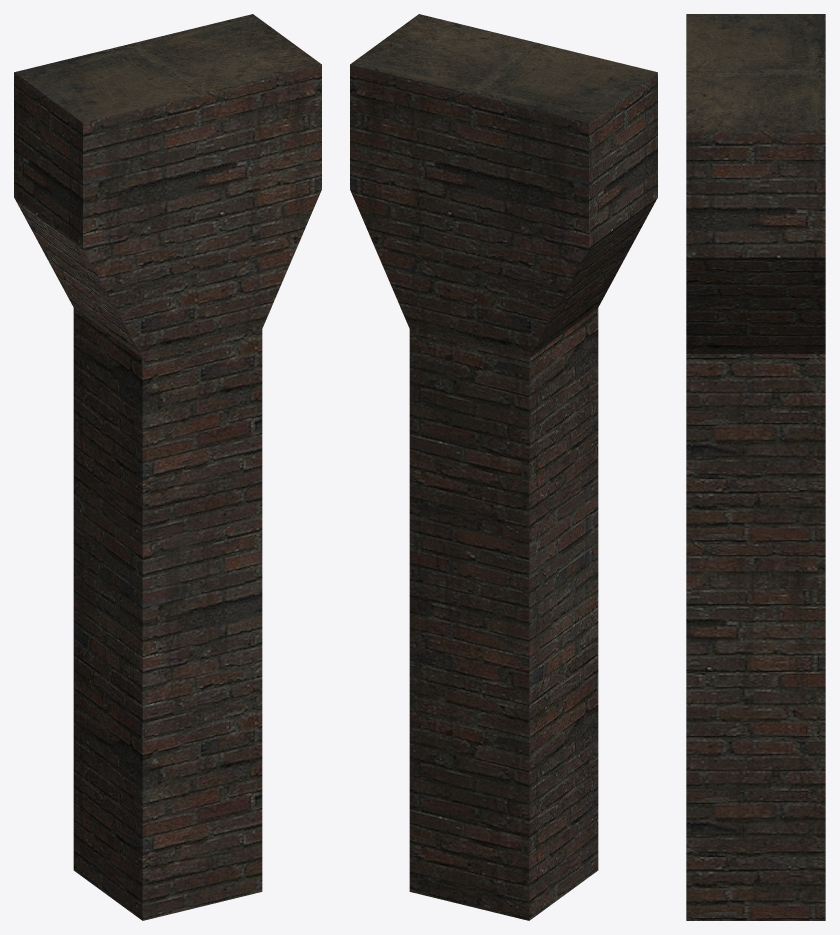
File: pillar_hs_7.obj
The picture shows the model from 3 angles, left to right: view 1: azimuth 30°, elevation 25°; view 2: azimuth 150°, elevation 25°; view 3: azimuth 270°, elevation 25°; orthographic projection.
Visible parts, largest first — view 1: pillar_hs_7; view 2: pillar_hs_7; view 3: pillar_hs_7.
Boxes of the visible parts, x1,y1,x2,y2 form: pillar_hs_7: [14, 14, 321, 920]; pillar_hs_7: [350, 14, 657, 920]; pillar_hs_7: [686, 14, 825, 920].
Bounding box in the file's own units: 2 × 6.5 × 1.
